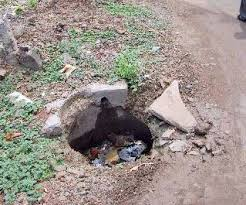Manhole-Open: (55, 83, 182, 176)
